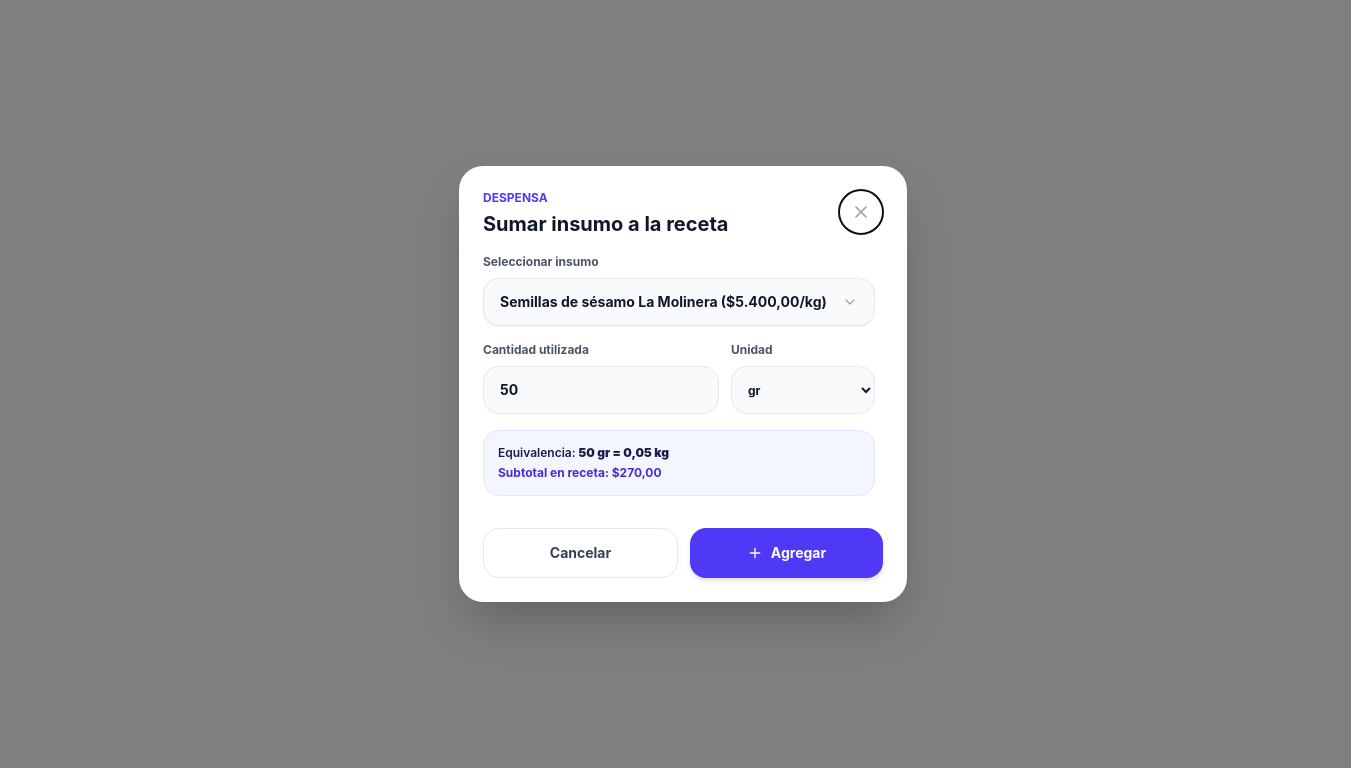
it: ProductAddIngredientModal - selector de la receta (#357) › no preselecciona un insumo que ya está en la receta y lo muestra como "Ya en la receta"
Click the dropdown named "Seleccionar insumo". click: coordinates (679, 302)
box: [483, 278, 875, 326]
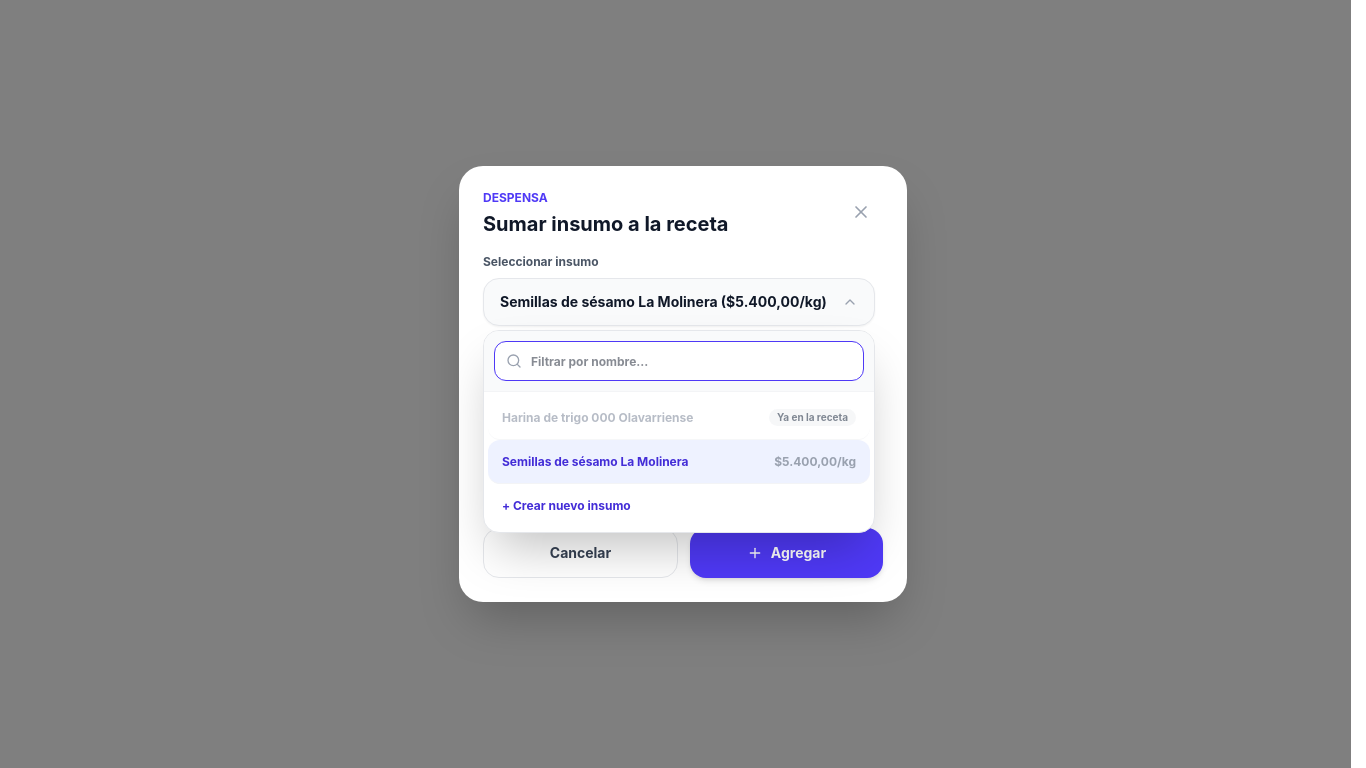
Check: the option "Harina de trigo 000 Olavarriense Ya en la receta" is shown, box [488, 396, 870, 440]
Check: the option "Harina de trigo 000 Olavarriense Ya en la receta" is disabled, box [488, 396, 870, 440]
